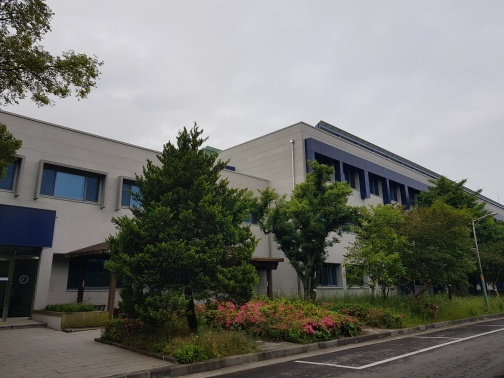College of Social Sciences: (5, 96, 493, 306)
